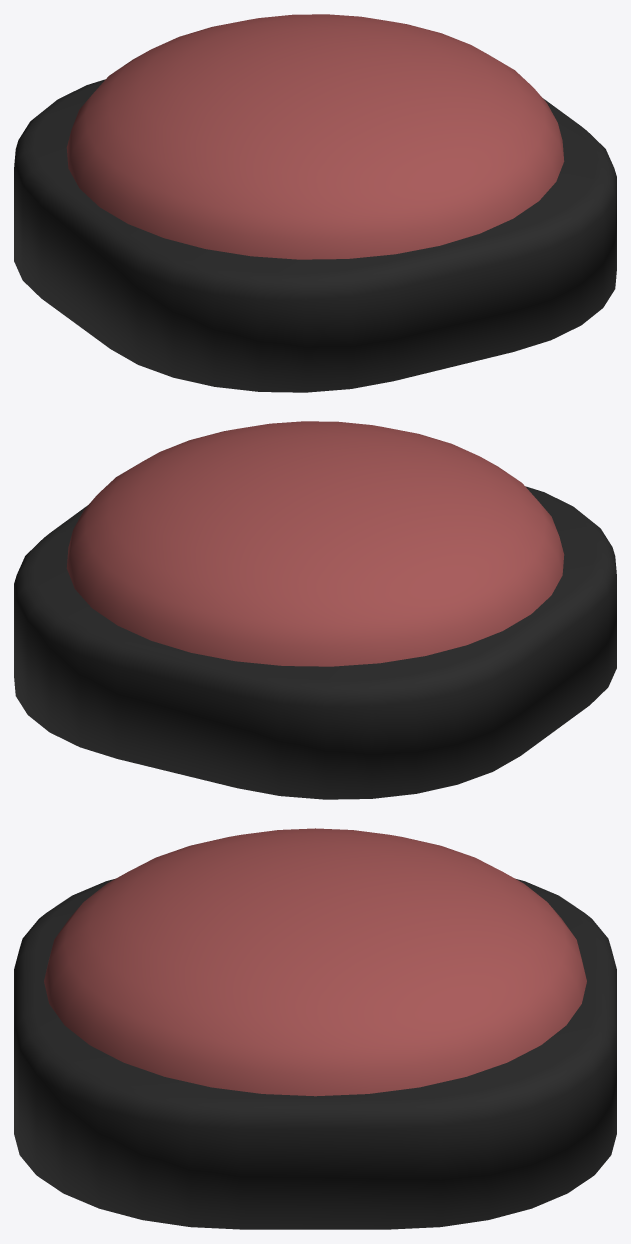
The model's file is ResetButton.fbx.
3 renders of one model, top to bottom at view 1: azimuth 30°, elevation 25°; view 2: azimuth 150°, elevation 25°; view 3: azimuth 270°, elevation 25°, orthographic. The views are drawn at different scales.
Visible parts, largest first — view 1: resetbutton.001; view 2: resetbutton.001; view 3: resetbutton.001.
Boxes of the visible parts, x1,y1,x2,y2 form: resetbutton.001: [14, 14, 616, 392]; resetbutton.001: [14, 421, 616, 799]; resetbutton.001: [14, 828, 616, 1229].
Size of the model in its own units: 23.95 by 9.74 by 23.95.
